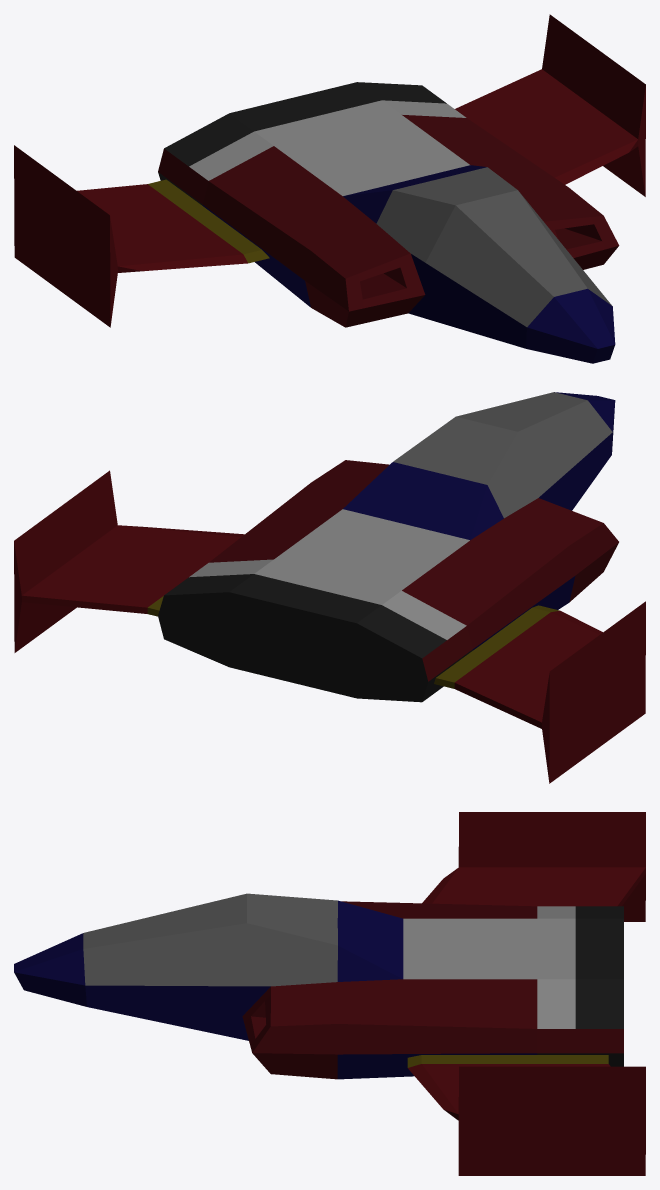
File: mainchara_plane.fbx
3 renders of one model, top to bottom at view 1: azimuth 30°, elevation 25°; view 2: azimuth 150°, elevation 25°; view 3: azimuth 270°, elevation 25°, orthographic. The views are drawn at different scales.
Visible parts, largest first — view 1: Cube; view 2: Cube; view 3: Cube.
Boxes of the visible parts, x1,y1,x2,y2 form: Cube: [14, 14, 645, 363]; Cube: [14, 392, 645, 783]; Cube: [14, 812, 645, 1175].
Size of the model in its own units: 423 by 109 by 444.
